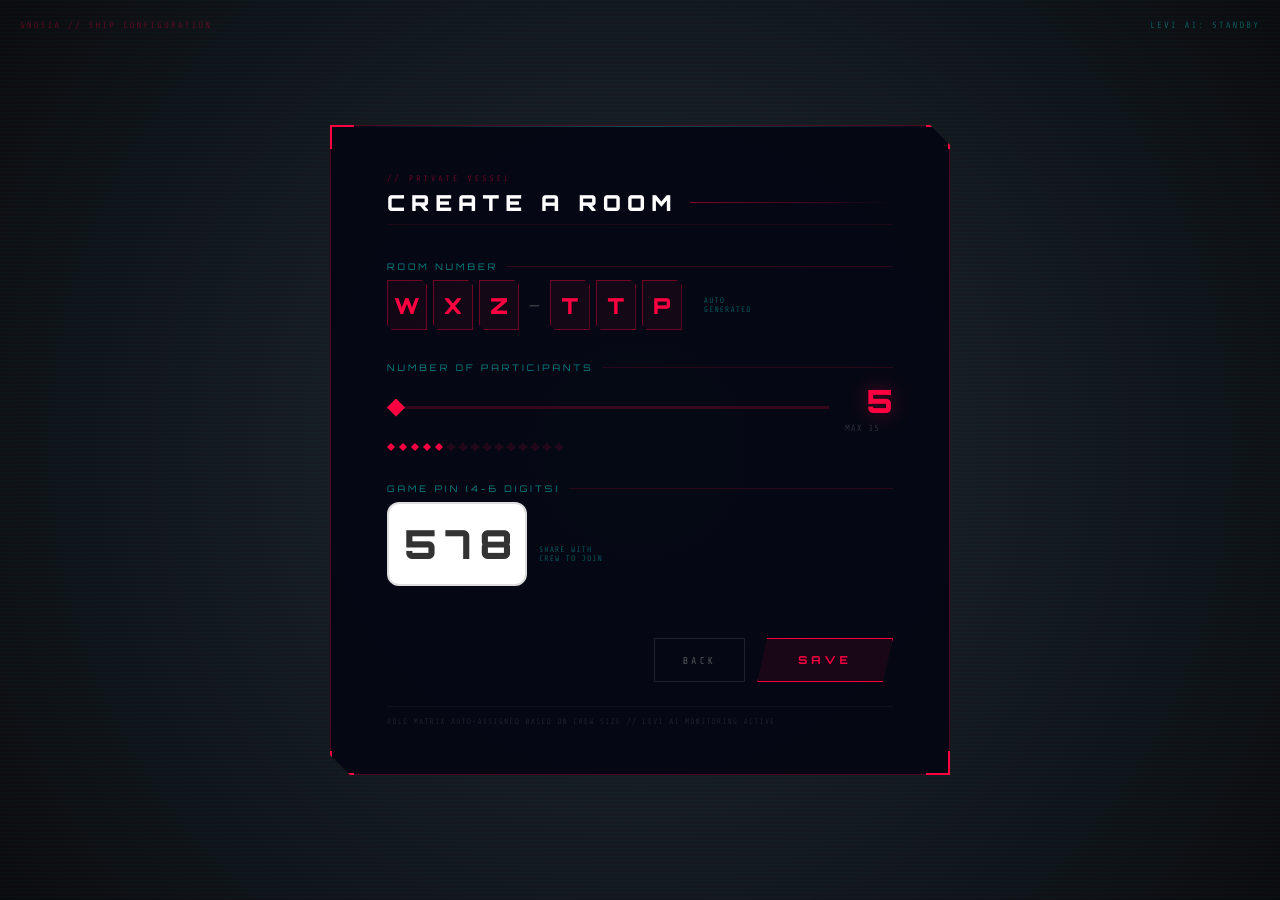
Test: CreateRoom — participant slider › updates participant count up to 15
This screenshot has width=1280, height=900.
Set the slider to "15" at (821, 407), box 387,395 -> 829,419
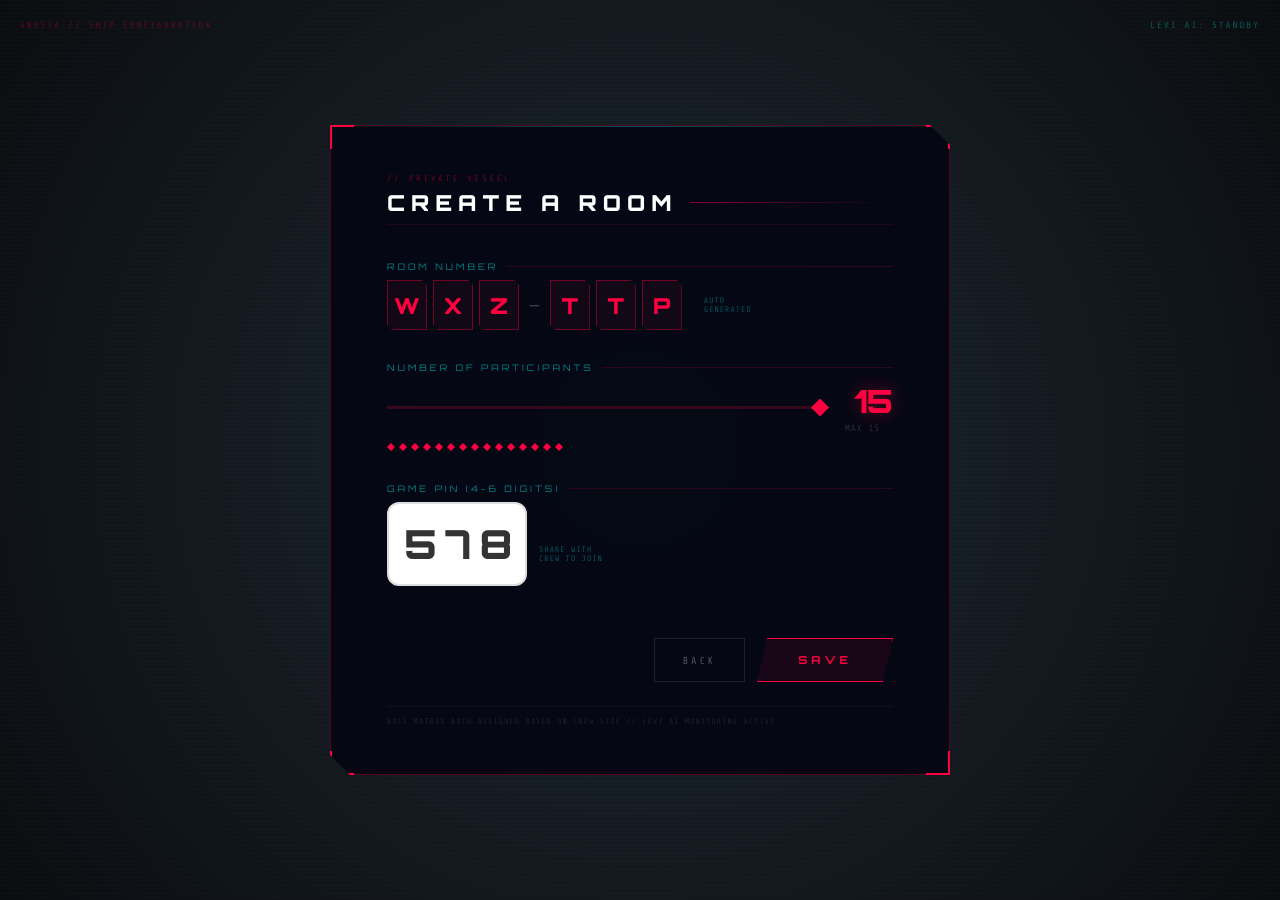
expect the text "15" is shown: met, box 854,381 -> 893,421
